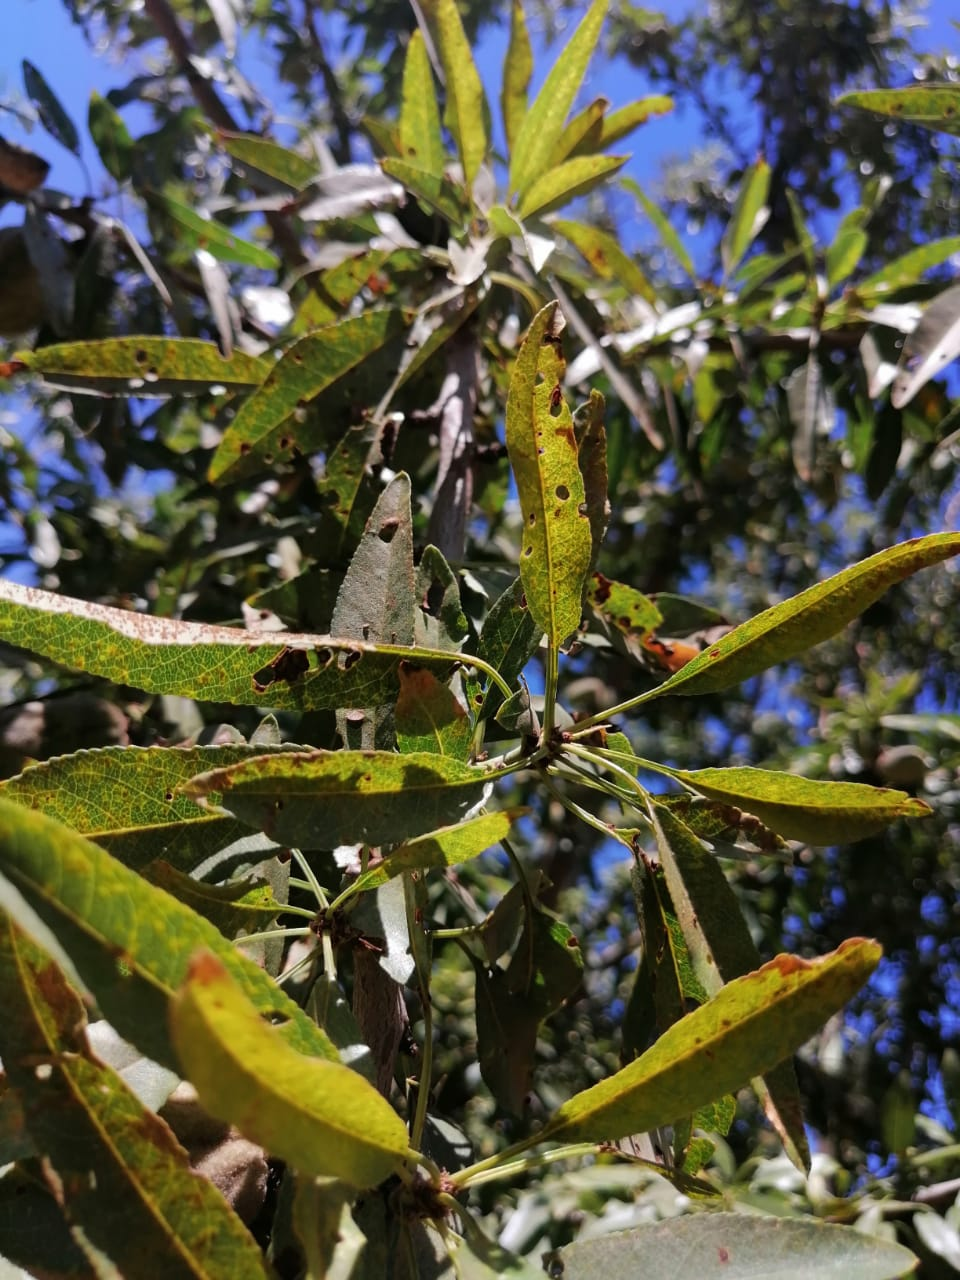coryneum: (545, 933, 880, 1144), (1, 579, 468, 713), (656, 529, 960, 698), (201, 306, 418, 494), (171, 749, 492, 852), (505, 299, 595, 652), (9, 333, 278, 395)
